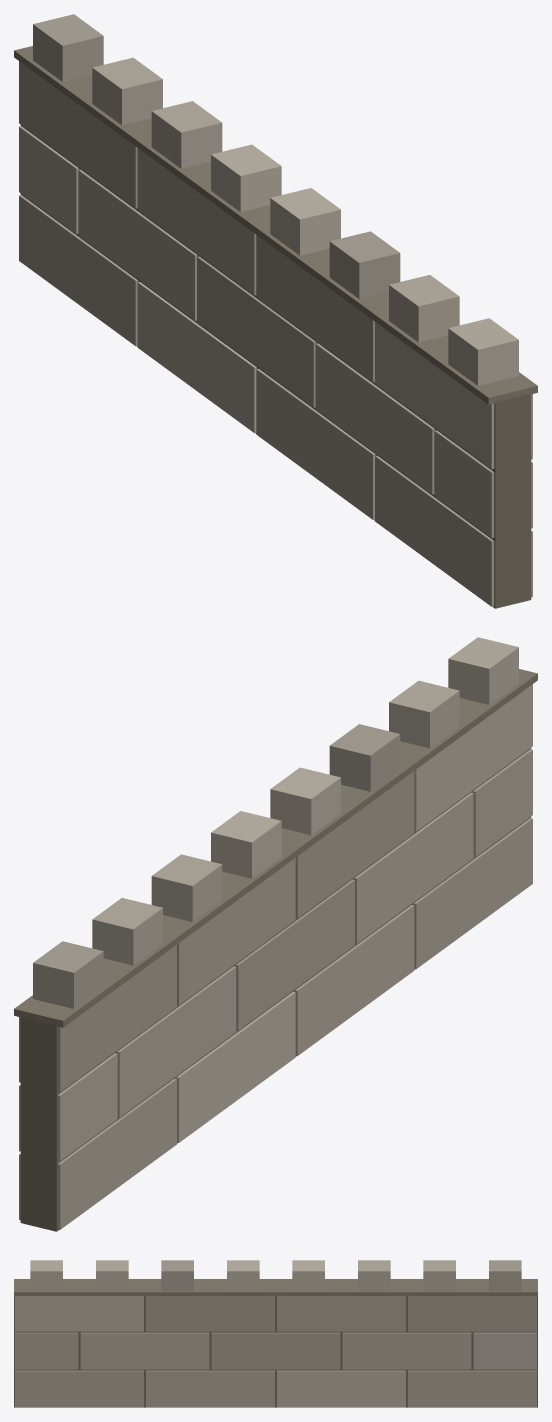
The model's file is wall.fbx.
3 renders of one model, top to bottom at view 1: azimuth 30°, elevation 25°; view 2: azimuth 150°, elevation 25°; view 3: azimuth 270°, elevation 25°, orthographic. The views are drawn at different scales.
Parts seen in each view (by area): view 1: wall_Main; view 2: wall_Main; view 3: wall_Main.
Boxes of the visible parts, box(x1,y1,x2,y2) form: wall_Main: box(14, 14, 537, 608); wall_Main: box(14, 637, 537, 1231); wall_Main: box(14, 1260, 537, 1407).
Bounding box in the file's own units: 0.6 × 2.89 × 10.
